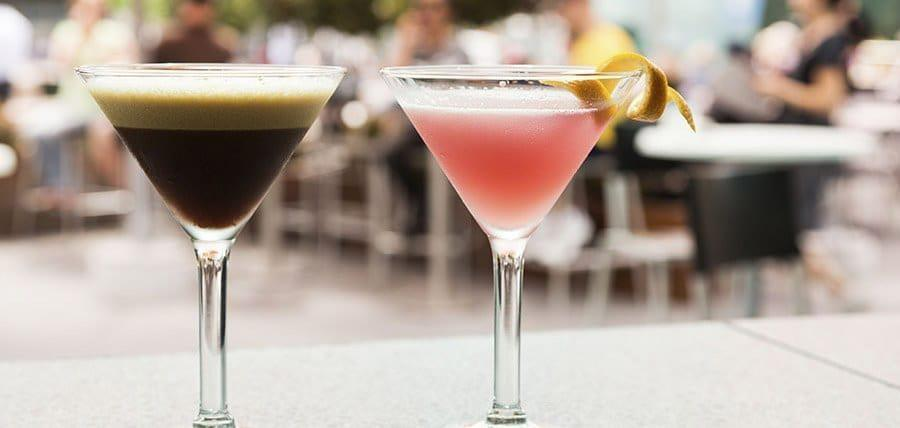glass-wine: (75, 56, 346, 427), (379, 66, 635, 427)
